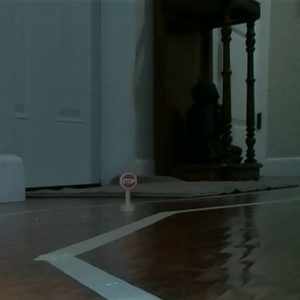stop sign: (118, 170, 139, 215)
